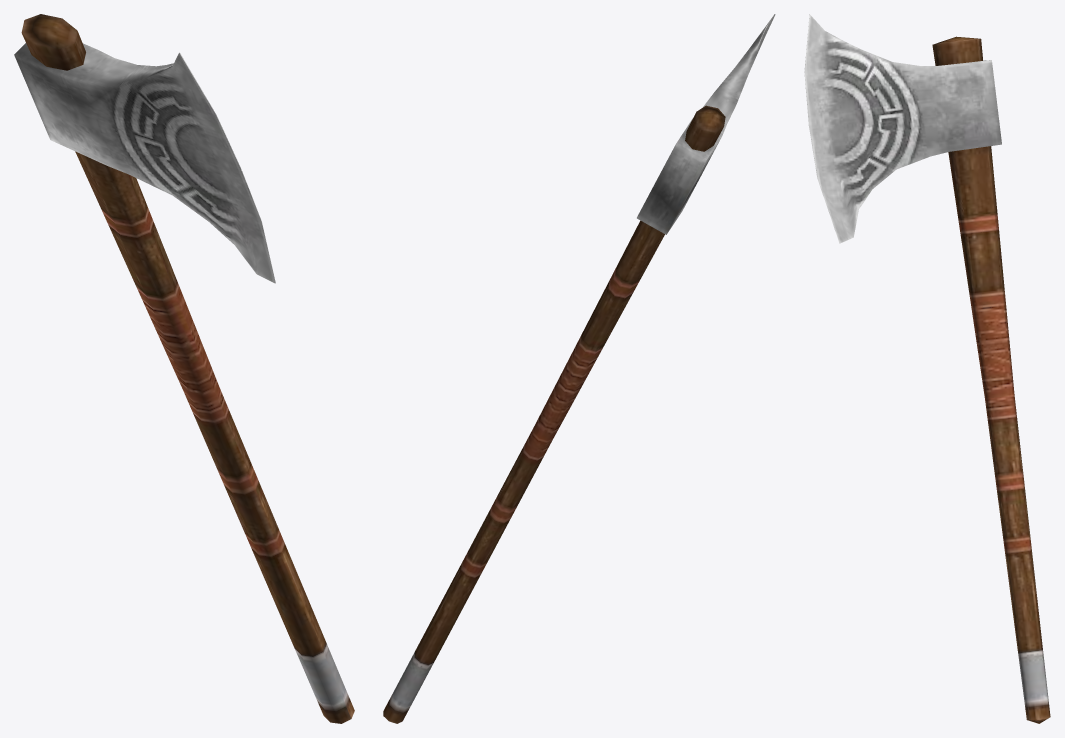
The model's file is weapon-female-bronzeweapons.glb.
3 views of the same model, side by side, from view 1: azimuth 30°, elevation 25°; view 2: azimuth 150°, elevation 25°; view 3: azimuth 270°, elevation 25° (orthographic). The views are drawn at different scales.
Size of the model in its own units: 0.6998 by 1.54 by 0.5739.
Materials: 1 (1 with a texture image).
